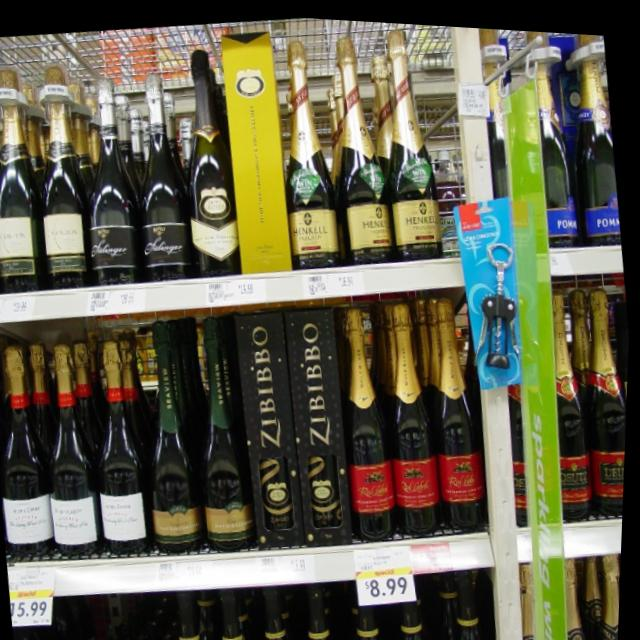q202: (416, 285, 499, 527), (327, 297, 410, 532), (373, 291, 453, 522), (533, 286, 606, 508), (575, 274, 633, 513)
